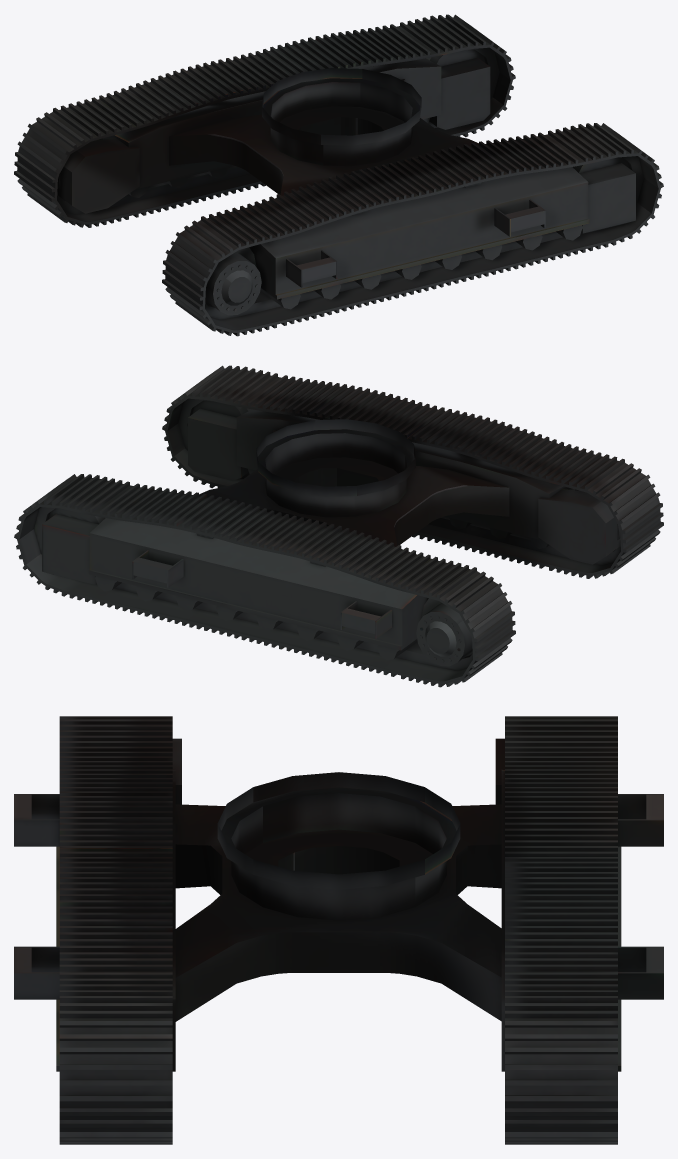
File: zx120-crawler.dae
3 views of the same model, one above another, from view 1: azimuth 30°, elevation 25°; view 2: azimuth 150°, elevation 25°; view 3: azimuth 270°, elevation 25° (orthographic). The views are drawn at different scales.
Parts seen in each view (by area): view 1: bake_body.001; view 2: bake_body.001; view 3: bake_body.001.
Boxes of the visible parts, left/top/right/bottom form: bake_body.001: left=14, top=14, right=663, bottom=336; bake_body.001: left=14, top=365, right=663, bottom=687; bake_body.001: left=14, top=716, right=663, bottom=1144.
Bounding box in the file's own units: 3.59 × 2.89 × 0.8842.
Materials: 1 (1 with a texture image).
